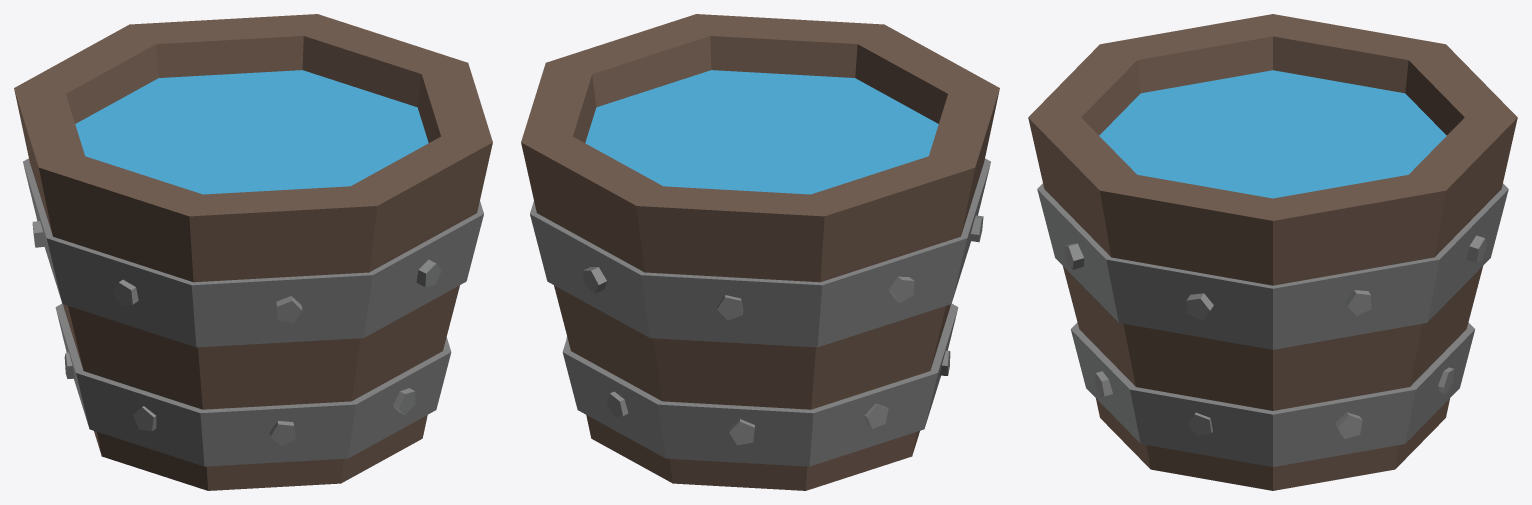
File: Bucket_Water_Greybox_FBX.fbx
The picture shows the model from 3 angles, left to right: view 1: azimuth 30°, elevation 25°; view 2: azimuth 150°, elevation 25°; view 3: azimuth 270°, elevation 25°; orthographic projection.
Parts seen in each view (by area): view 1: Bucket, Water, Metal_1, Metal_2, Bolt8, Bolt1, Bolt7; view 2: Bucket, Water, Metal_1, Metal_2, Bolt5, Bolt6, Bolt4; view 3: Bucket, Water, Metal_1, Metal_2, Bolt3, Bolt2, Bolt1, Bolt4.
Part boxes in pixels (x1,y1,x2,y2): Bucket: (14, 14, 492, 490); Water: (75, 70, 428, 194); Metal_1: (23, 158, 483, 347); Metal_2: (55, 304, 451, 466); Bolt8: (269, 296, 302, 445); Bolt1: (393, 259, 441, 414); Bolt7: (112, 279, 156, 431); Bucket: (521, 14, 999, 490); Water: (585, 70, 938, 194); Metal_1: (530, 158, 990, 347); Metal_2: (562, 304, 958, 466); Bolt5: (717, 295, 754, 445); Bolt6: (864, 276, 914, 428); Bolt4: (582, 267, 628, 417); Bucket: (1028, 14, 1517, 490); Water: (1099, 70, 1446, 198); Metal_1: (1037, 183, 1508, 349); Metal_2: (1070, 322, 1475, 466); Bolt3: (1335, 290, 1371, 438); Bolt2: (1186, 293, 1213, 436); Bolt1: (1064, 243, 1112, 396); Bolt4: (1438, 235, 1487, 393).
Bounding box in the file's own units: 0.9898 × 0.6701 × 0.9898.
